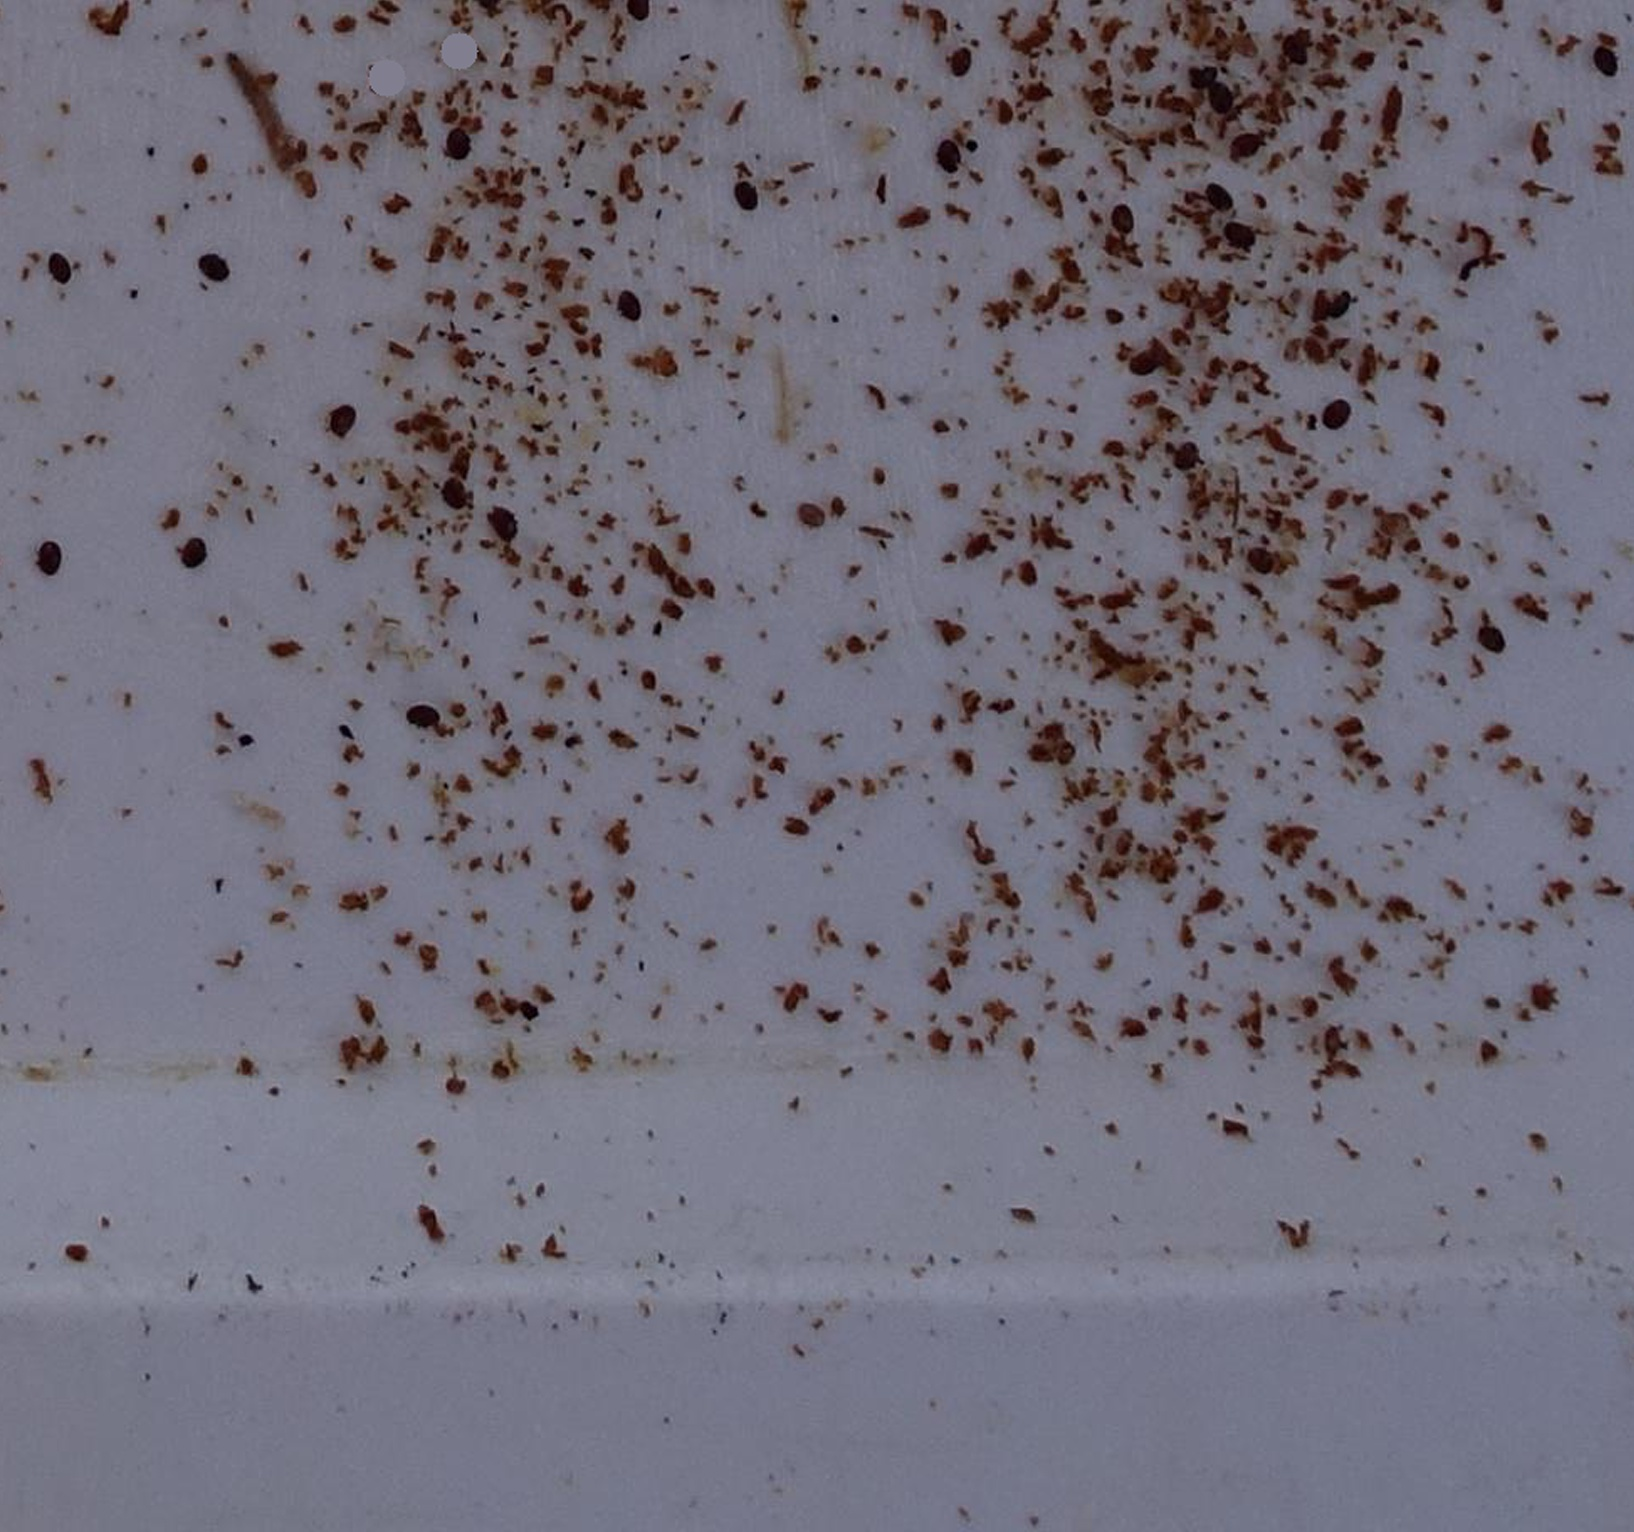Varroa: (320, 395, 364, 441), (484, 503, 528, 549), (1196, 183, 1229, 216), (1172, 441, 1204, 474), (1106, 203, 1137, 236), (1278, 37, 1309, 68), (1227, 220, 1255, 251), (35, 541, 63, 570), (1204, 84, 1232, 112), (439, 475, 468, 504), (934, 141, 963, 170), (442, 130, 469, 157), (410, 700, 438, 727), (1323, 284, 1350, 311), (200, 253, 226, 281), (1227, 130, 1252, 157), (615, 291, 641, 318), (1314, 397, 1342, 423), (45, 256, 71, 282), (730, 177, 754, 203), (180, 537, 204, 562), (795, 498, 819, 523), (1479, 625, 1502, 648), (1594, 48, 1615, 71), (1248, 541, 1270, 564), (947, 52, 967, 75)
